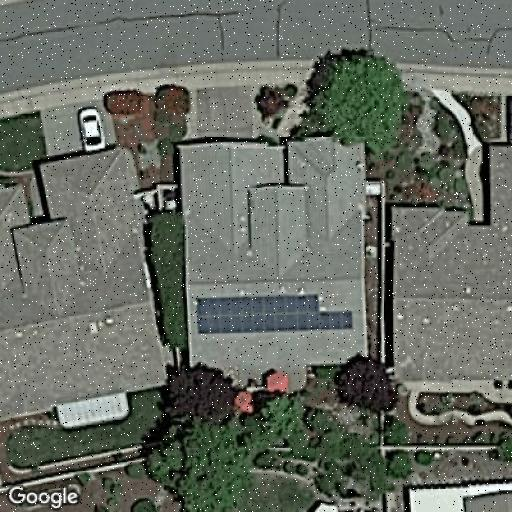solar-panel: (193, 292, 355, 336)
